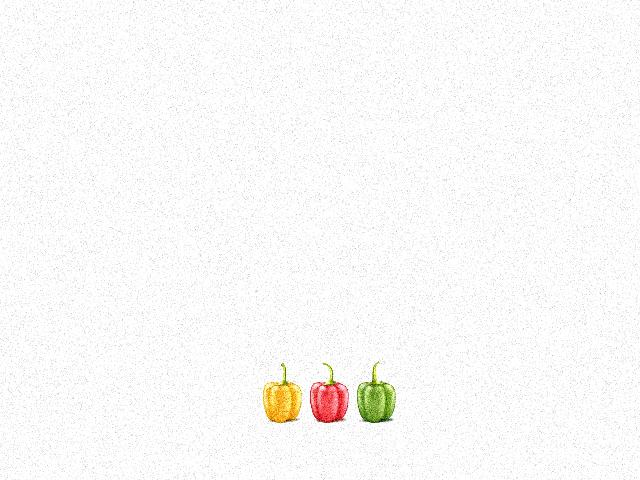bell_pepper: (357, 361, 400, 425)
